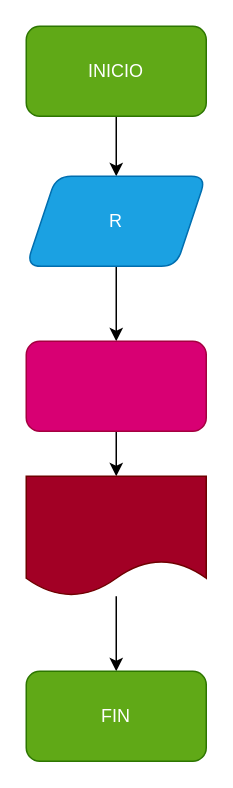
Image size: 233x788. Some labels were removed from this diagram. The centre of each missing label's shape, as x and y in pixels:
"A : PI*R2 P = 2PI*R" goes at point (115, 385).
"A*P" goes at point (115, 535).
